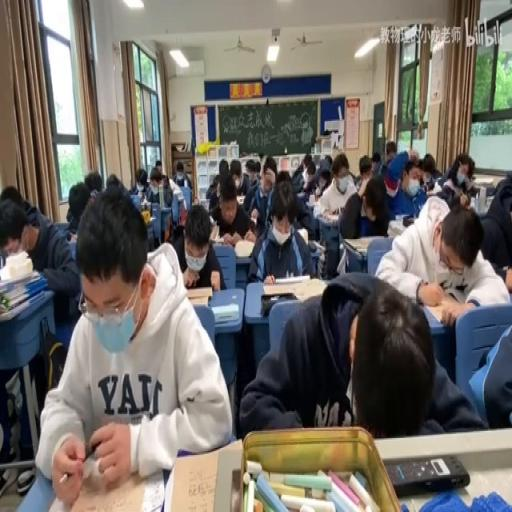calculator: (48, 455, 163, 511), (164, 445, 232, 512), (0, 287, 46, 320), (0, 268, 42, 294), (422, 299, 454, 324), (210, 302, 238, 324), (185, 286, 213, 306), (343, 236, 372, 253), (233, 238, 254, 256), (317, 208, 340, 224), (272, 273, 310, 282), (387, 216, 404, 236), (171, 185, 185, 205), (307, 239, 326, 253), (472, 175, 494, 186), (426, 180, 442, 194), (209, 223, 219, 242), (295, 228, 307, 243), (485, 184, 495, 199), (306, 196, 315, 208), (235, 195, 245, 205), (68, 233, 77, 243), (148, 216, 154, 223)
paper: (240, 272, 482, 435), (0, 186, 79, 475), (61, 160, 195, 282), (375, 195, 509, 310), (467, 312, 512, 426), (312, 151, 358, 253), (173, 202, 224, 290), (262, 160, 314, 234), (437, 151, 477, 202), (66, 179, 94, 235), (144, 165, 176, 210), (206, 158, 229, 212), (229, 156, 251, 196), (418, 152, 440, 185), (354, 155, 372, 193), (378, 141, 398, 175), (131, 167, 150, 199), (400, 160, 417, 194), (173, 159, 192, 189), (0, 183, 24, 205), (84, 170, 102, 194), (262, 155, 276, 178), (370, 151, 382, 175), (275, 171, 292, 186), (248, 208, 258, 233), (105, 174, 120, 189), (302, 152, 312, 172), (408, 148, 418, 165), (322, 154, 332, 170), (468, 182, 478, 196), (158, 175, 168, 188), (86, 194, 94, 208), (253, 161, 260, 176), (154, 160, 160, 170)
person: (386, 454, 470, 496), (261, 292, 299, 314), (402, 214, 414, 224)
